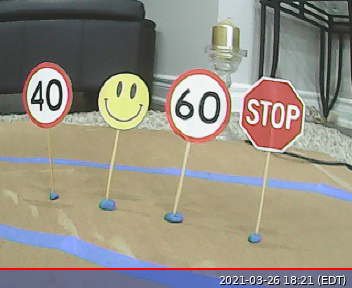Person: (97, 71, 149, 130)
Speed Limit 40: (23, 62, 73, 128)
Speed Limit 60: (165, 69, 231, 143)
Stop Sign: (239, 75, 305, 153)
